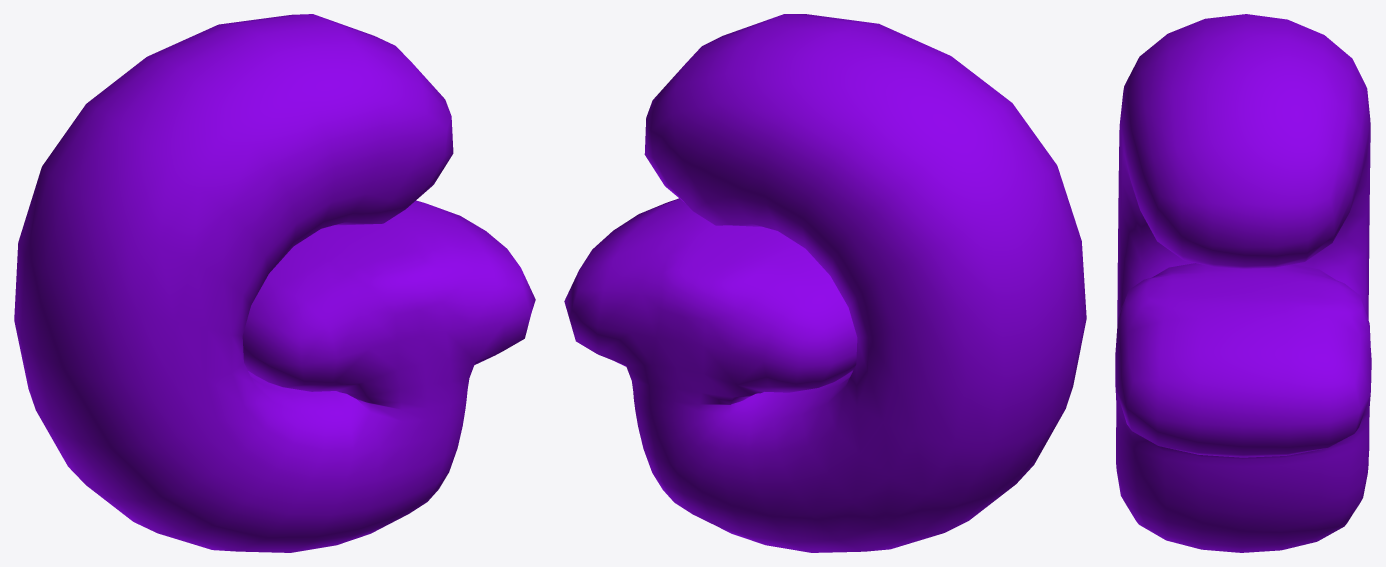
3 renders of one model, left to right at view 1: azimuth 30°, elevation 25°; view 2: azimuth 150°, elevation 25°; view 3: azimuth 270°, elevation 25°, orthographic. The views are drawn at different scales.
Visible parts, largest first — view 1: Object_18; view 2: Object_18; view 3: Object_18.
Boxes of the visible parts, x1=… form: Object_18: x1=14, y1=14, x2=535, y2=552; Object_18: x1=564, y1=14, x2=1086, y2=552; Object_18: x1=1115, y1=14, x2=1371, y2=552.
Size of the model in its own units: 93.7 by 97.35 by 46.79.
